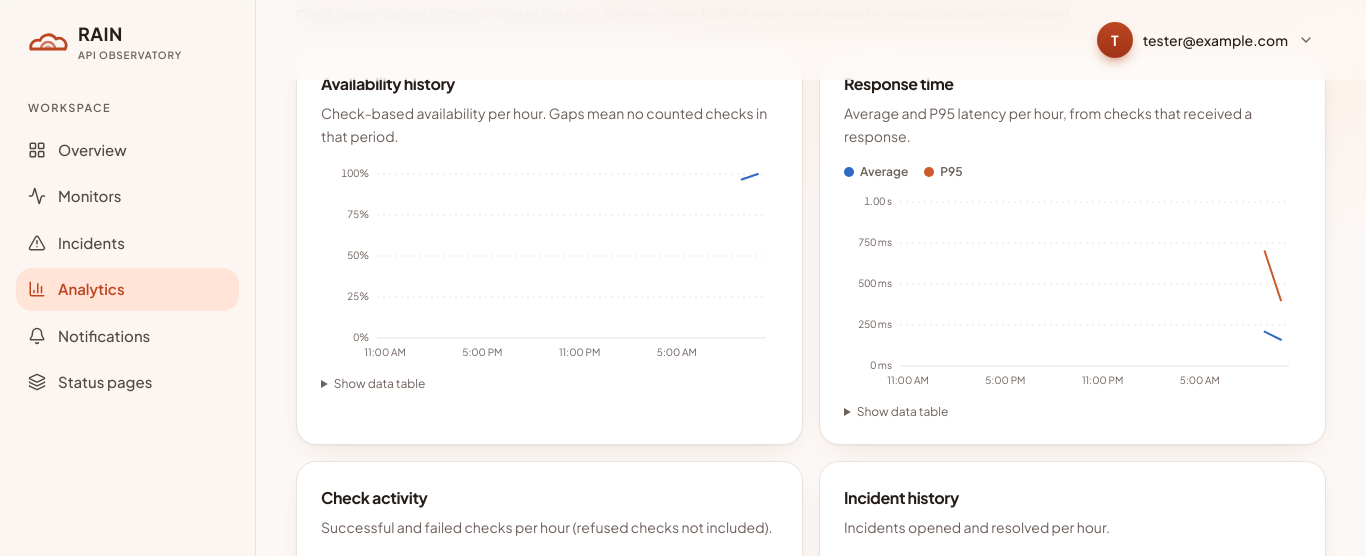
analytics dashboard › draws the four charts with data and a table view; empty buckets read "No data"
(page scrolled)
Expected: the picture named "Availability history" is shown, [321,164,778,364]
Expected: the picture named "Response time" is shown, [844,192,1301,392]
What coordinates should you click on to do the following:
click the heading "Show data table" below "25%"
I would click on:
 (380, 383)
Its box is [334,376,425,391].
(page scrolled)
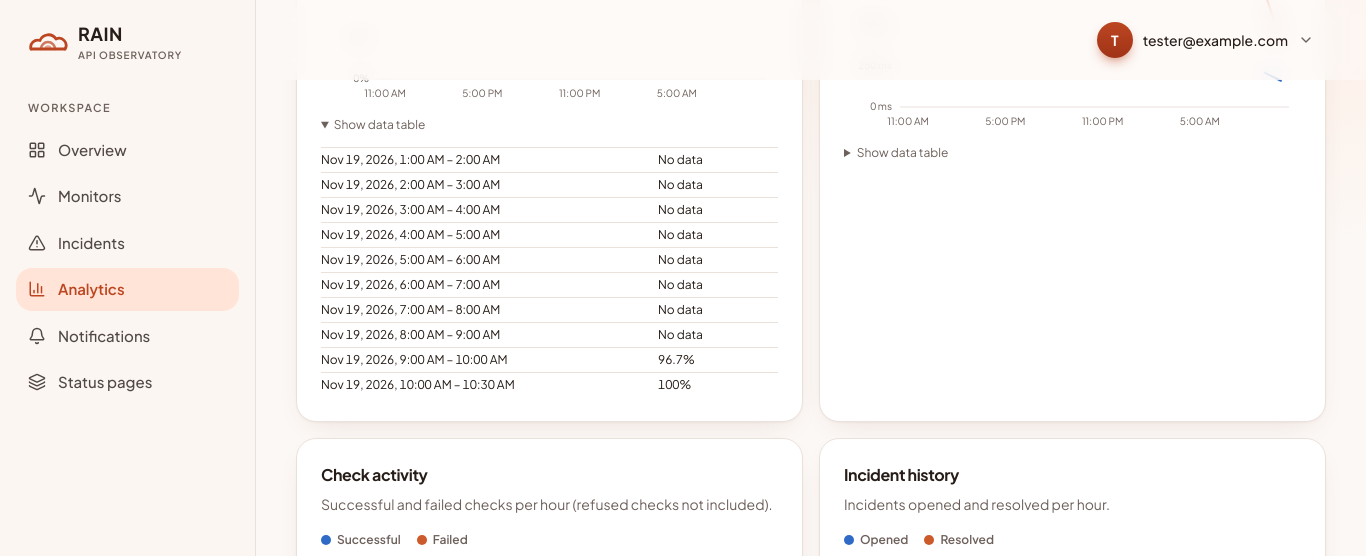
Expected: the row "Nov 19, 2026, 10:00 AM – 10:30 AM 100%" is shown, [321,372,778,397]
